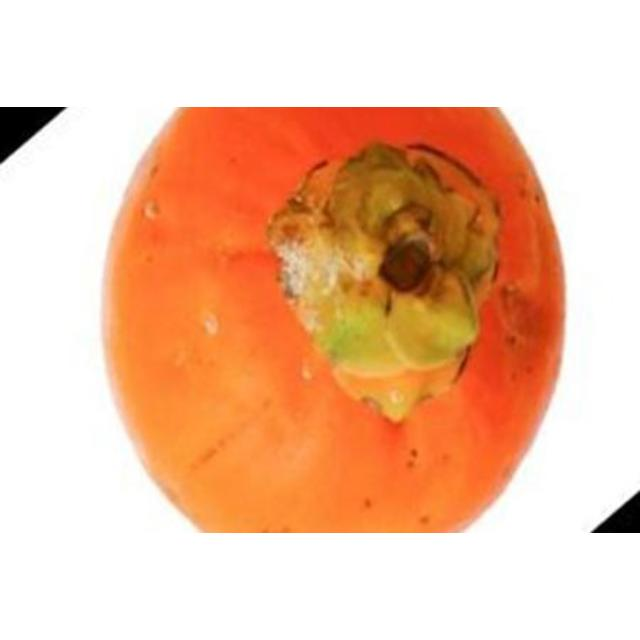good: (100, 107, 569, 532)
